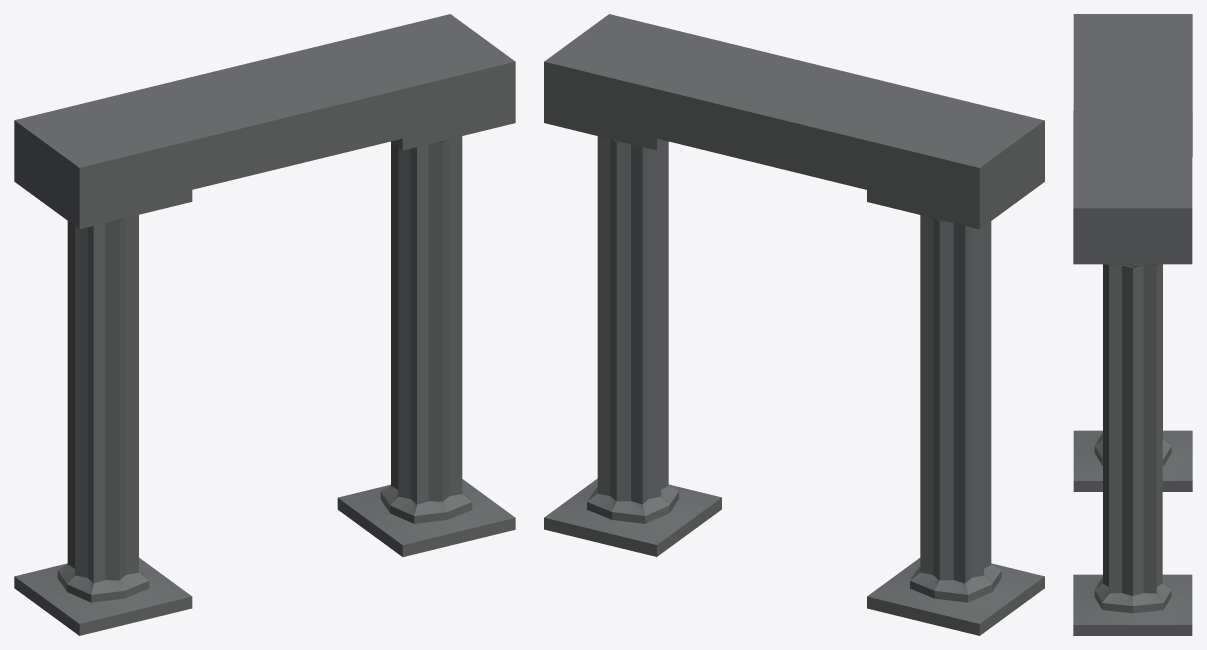
File: DoublePillar.fbx
The picture shows the model from 3 angles, left to right: view 1: azimuth 30°, elevation 25°; view 2: azimuth 150°, elevation 25°; view 3: azimuth 270°, elevation 25°; orthographic projection. The views are drawn at different scales.
Parts seen in each view (by area): view 1: Double Pillar; view 2: Double Pillar; view 3: Double Pillar.
Part boxes in pixels (x1=…): Double Pillar: x1=14, y1=14, x2=515, y2=635; Double Pillar: x1=544, y1=14, x2=1044, y2=635; Double Pillar: x1=1073, y1=14, x2=1192, y2=635.
Size of the model in its own units: 1384 by 1420 by 359.
